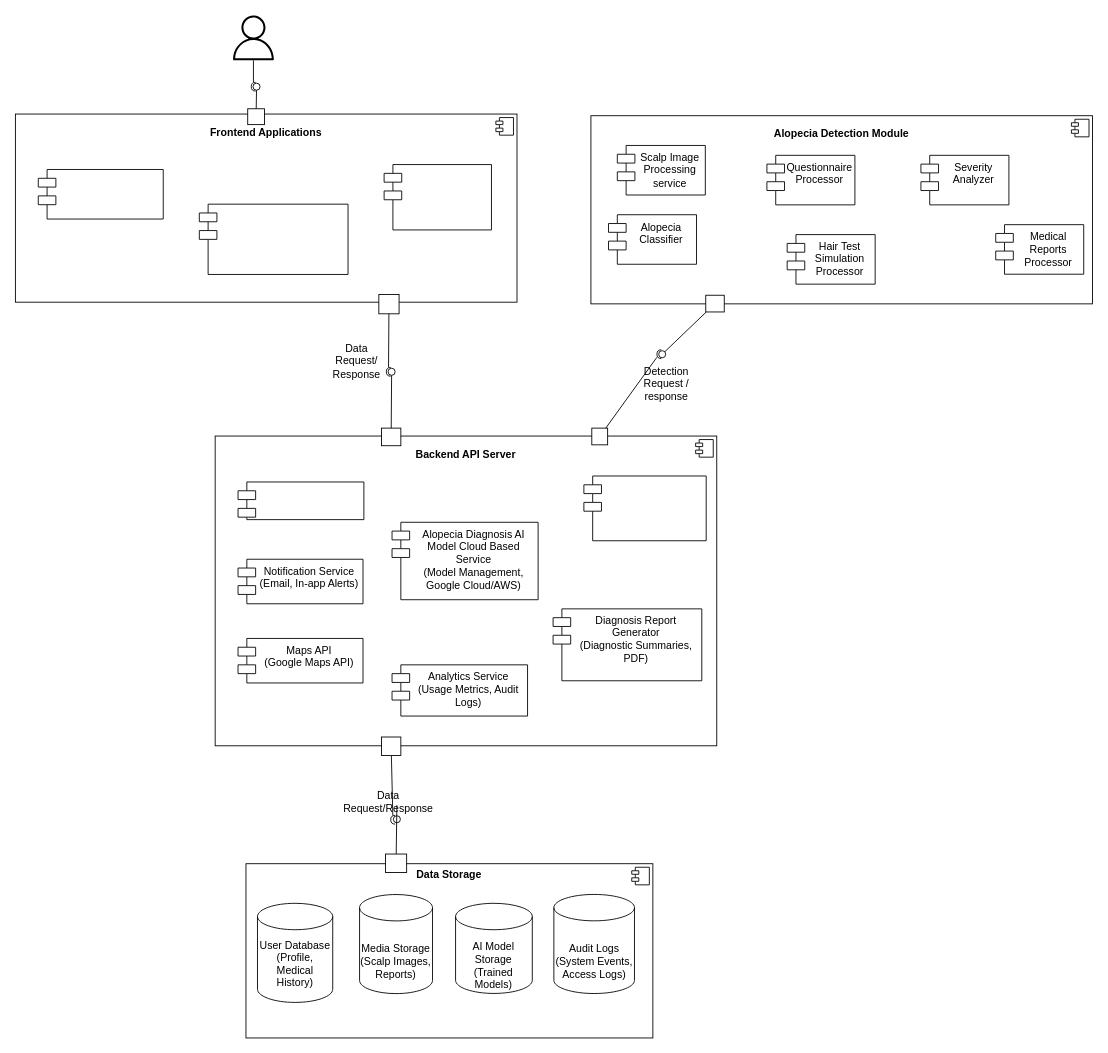
Some shapes in this 1108 by 1053 pixel diagram are drawn without their labels. The shapes that lost their labels are listed below. From the top down, each one's centre as x and y in pixels, then its label:
the point at 253,37: User
the point at 100,194: Admin Panel (User management, analytics)
the point at 437,197: Dermatologist Portal (Appointments, Patients View)
the point at 273,238: User Web Portal (Dashboard, AI Scanner Tests, Questionnaire, Medical Reports)
the point at 300,500: User Authentication Service
the point at 644,508: Appointment Service (Locating, Dermatologist Booking)
